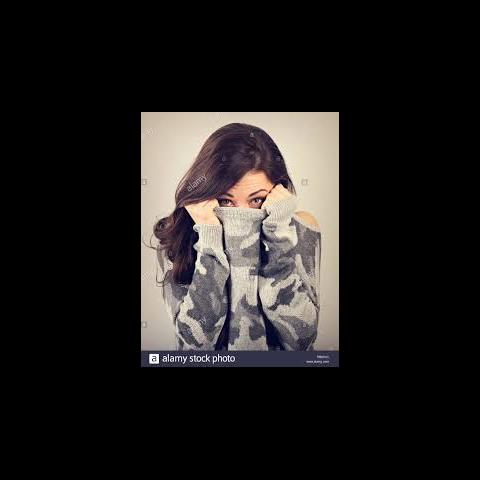opened: (209, 190, 274, 213)
